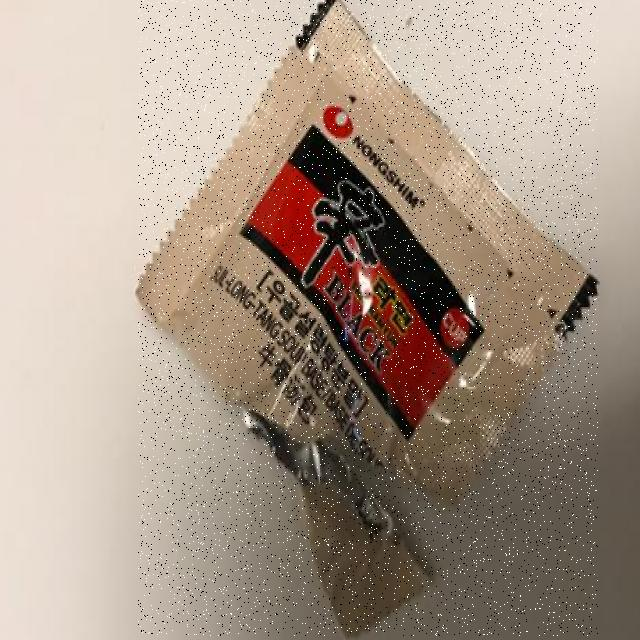wrapper: (138, 0, 598, 636)
